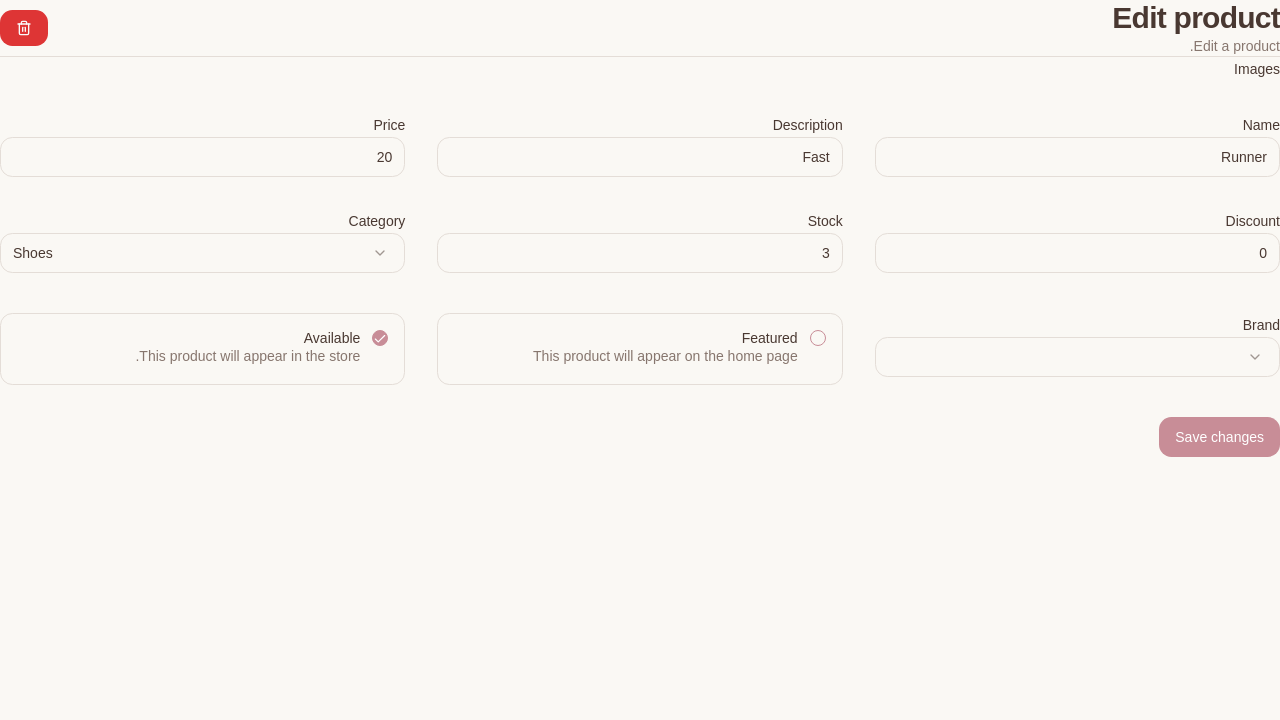
Scenario: admin forms request failures › product delete failure is reported
Later steps or results of the test are not shown.
Click the 1st button at [24, 28], box [0,10,48,46]
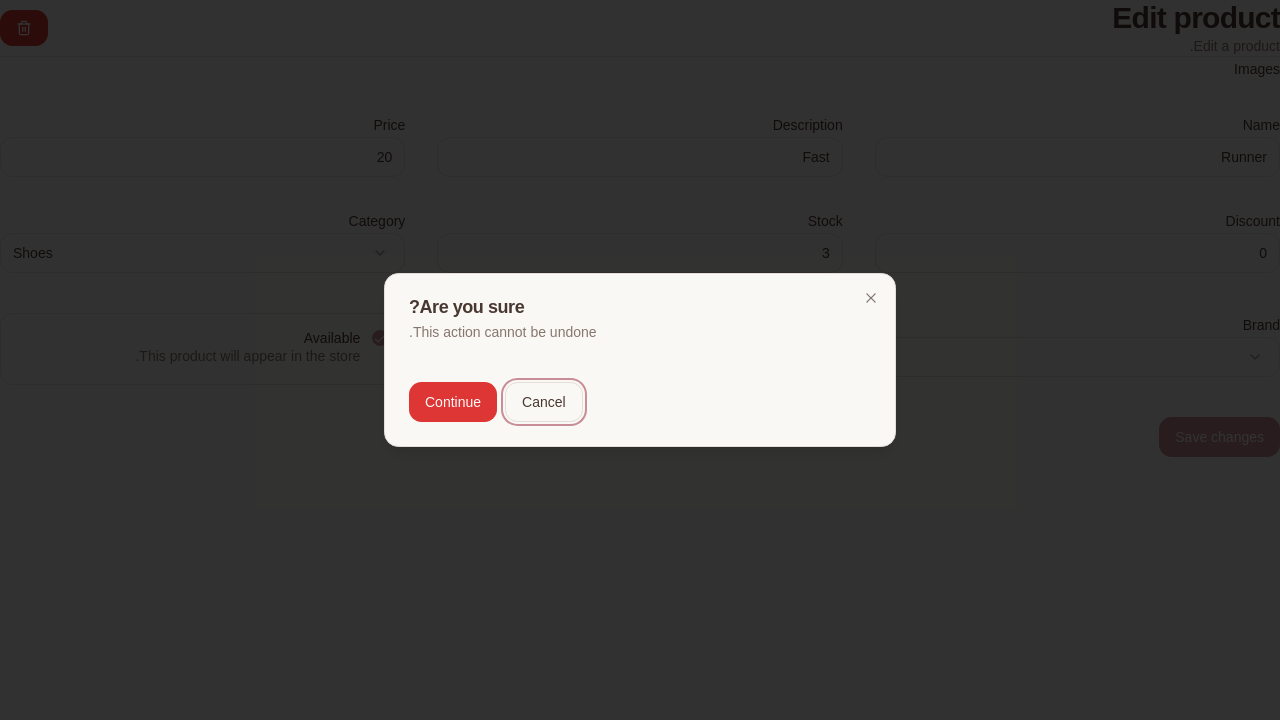
Expected: the button "Continue" is shown, [409,382,497,422]
